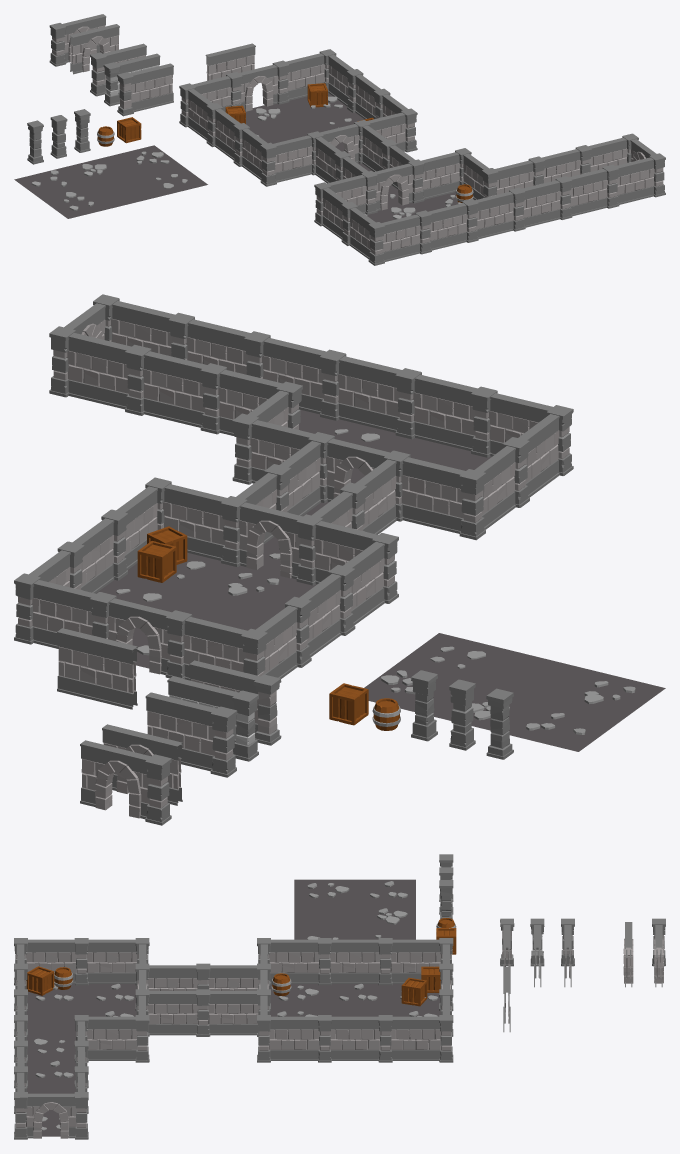
File: modular-dungeon.glb
3 views of the same model, one above another, from view 1: azimuth 30°, elevation 25°; view 2: azimuth 150°, elevation 25°; view 3: azimuth 270°, elevation 25° (orthographic). The views are drawn at different scales.
Visible parts, largest first — view 1: Cube.006, Cube.033, Cube.034, Cube.032, Cube.030, Cube.029, Cube.031, Cube.003, Cube.013, Cube.035, Cube.007, Cube.023 (+42 smaller); view 2: Cube.028, Cube.024, Cube.025, Cube.005, Cube.037, Cube.030, Cube.031, Cube.038, Cube.012, Cube.007, Cube.003, Cube.011 (+45 smaller); view 3: Cube.008, Cube.009, Cube.015, Cube.010, Cube.027, Cube.019, Cube.039, Cube.021, Cube.016, Cube.014, Cube.040, Cube.026 (+35 smaller).
Part boxes in pixels (box(x1,y1,x2,y2)): Cube.006: box(117, 63, 173, 116); Cube.033: box(568, 164, 619, 216); Cube.034: box(615, 153, 665, 204); Cube.032: box(522, 176, 572, 227); Cube.030: box(428, 199, 478, 250); Cube.029: box(381, 210, 431, 261); Cube.031: box(475, 187, 525, 238); Cube.003: box(272, 53, 325, 104); Cube.013: box(273, 131, 323, 182); Cube.035: box(421, 148, 471, 199); Cube.007: box(226, 64, 278, 111); Cube.023: box(70, 24, 119, 74); Cube.028: box(401, 457, 485, 540); Cube.024: box(80, 740, 171, 825); Cube.025: box(57, 628, 137, 709); Cube.005: box(145, 692, 237, 777); Cube.037: box(125, 344, 206, 427); Cube.030: box(395, 368, 477, 450); Cube.031: box(320, 349, 401, 432); Cube.038: box(49, 326, 131, 409); Cube.012: box(221, 496, 302, 579); Cube.007: box(107, 598, 192, 679); Cube.003: box(31, 580, 116, 648); Cube.011: box(145, 477, 226, 560); Cube.008: box(390, 1015, 453, 1062); Cube.009: box(329, 1015, 392, 1062); Cube.015: box(318, 938, 380, 985); Cube.010: box(269, 1015, 331, 1062); Cube.027: box(74, 938, 137, 985); Cube.019: box(196, 989, 259, 1036); Cube.039: box(74, 1015, 137, 1062); Cube.021: box(135, 989, 198, 1036); Cube.016: box(378, 938, 441, 985); Cube.014: box(257, 938, 319, 985); Cube.040: box(26, 1093, 76, 1138); Cube.026: box(14, 938, 76, 985).
Size of the model in its own units: 40.46 by 3.1 by 42.92.
